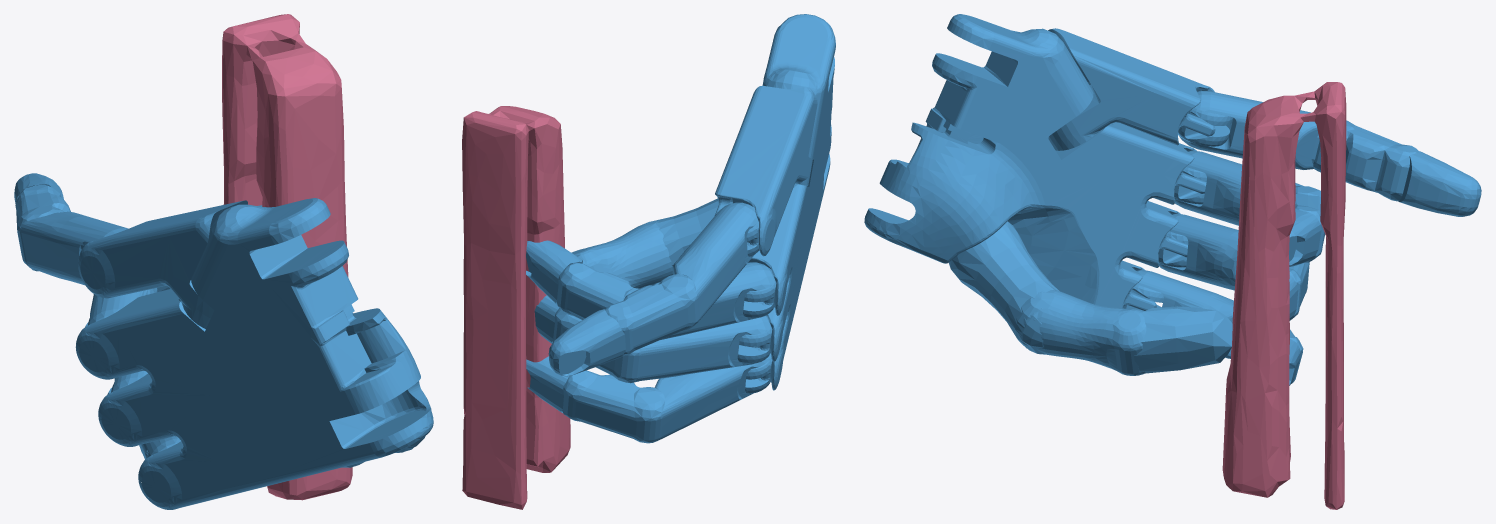
3 renders of one model, left to right at view 1: azimuth 30°, elevation 25°; view 2: azimuth 150°, elevation 25°; view 3: azimuth 270°, elevation 25°, orthographic. The views are drawn at different scales.
Parts seen in each view (by area): view 1: 4; view 2: 4; view 3: 4.
Part boxes in pixels (x1,y1,x2,y2): 4: [14, 14, 433, 509]; 4: [462, 14, 835, 509]; 4: [864, 14, 1481, 509].
Bounding box in the file's own units: 0.1029 × 0.1522 × 0.207.
